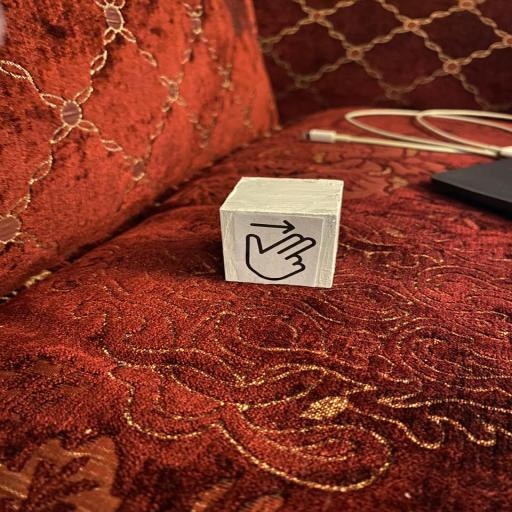RightSwipe: (216, 176, 348, 288)
